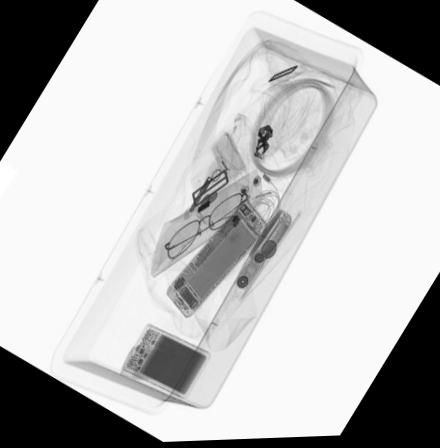Powerbank: (122, 322, 210, 400)
